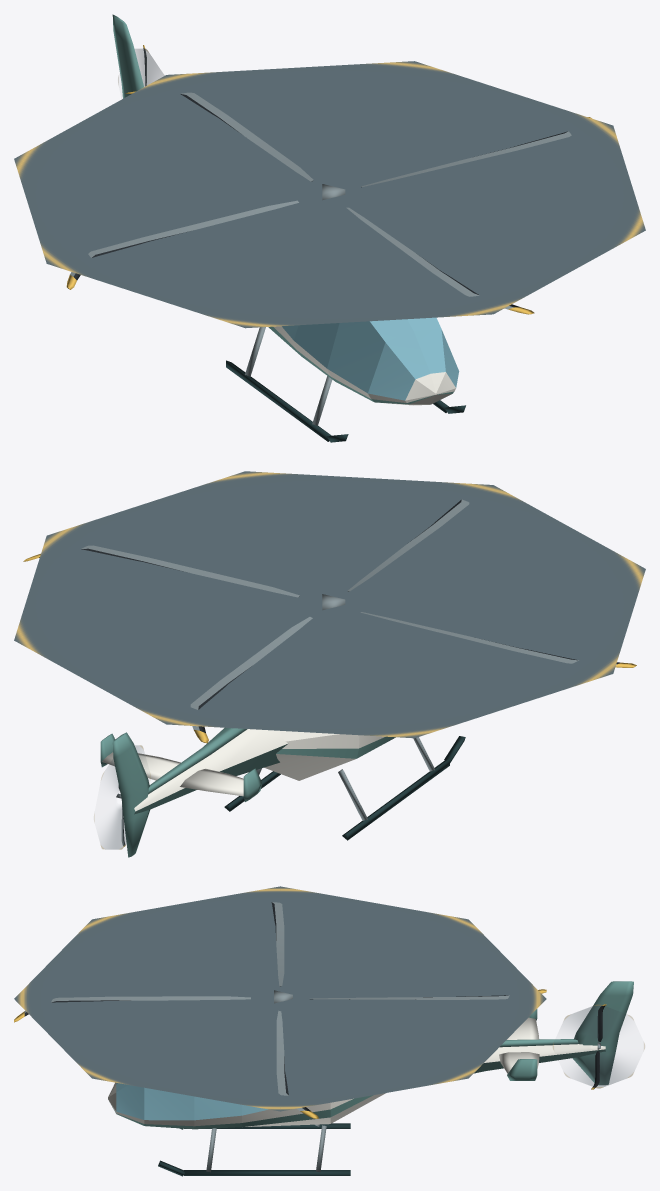
File: helicopter_tour_lod2.glb
3 renders of one model, top to bottom at view 1: azimuth 30°, elevation 25°; view 2: azimuth 150°, elevation 25°; view 3: azimuth 270°, elevation 25°, orthographic. The views are drawn at different scales.
Visible parts, largest first — view 1: rotor_blur_main, fuselage_skin, rotor_main, airframe, door_front_R; view 2: rotor_blur_main, airframe, rotor_main, fuselage_skin, rotor_blur_tail; view 3: rotor_blur_main, airframe, fuselage_skin, rotor_main, rotor_blur_tail, door_front_L, door_L.
Boxes of the visible parts, x1,y1,x2,y2 form: rotor_blur_main: [14, 61, 645, 328]; fuselage_skin: [327, 317, 459, 405]; rotor_main: [66, 91, 591, 314]; airframe: [112, 14, 465, 442]; door_front_R: [294, 323, 339, 381]; rotor_blur_main: [14, 471, 645, 738]; airframe: [100, 727, 465, 857]; rotor_main: [23, 499, 636, 743]; fuselage_skin: [264, 731, 359, 780]; rotor_blur_tail: [94, 745, 150, 849]; rotor_blur_main: [14, 886, 546, 1111]; airframe: [158, 981, 633, 1176]; fuselage_skin: [108, 1082, 385, 1129]; rotor_main: [14, 902, 546, 1118]; rotor_blur_tail: [553, 1004, 644, 1088]; door_front_L: [194, 1096, 241, 1129]; door_L: [242, 1102, 330, 1126].
Size of the model in its own units: 10.3 by 3.66 by 12.22.
Materials: 9 (2 with a texture image).
